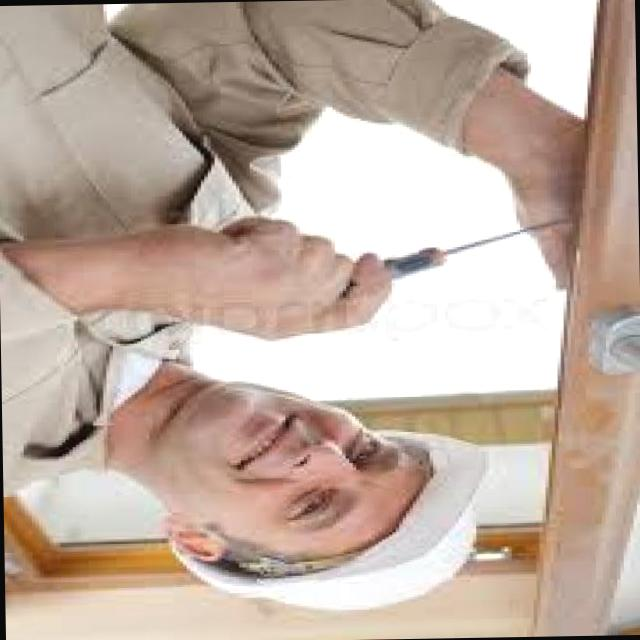screwdriver: (384, 223, 560, 279)
